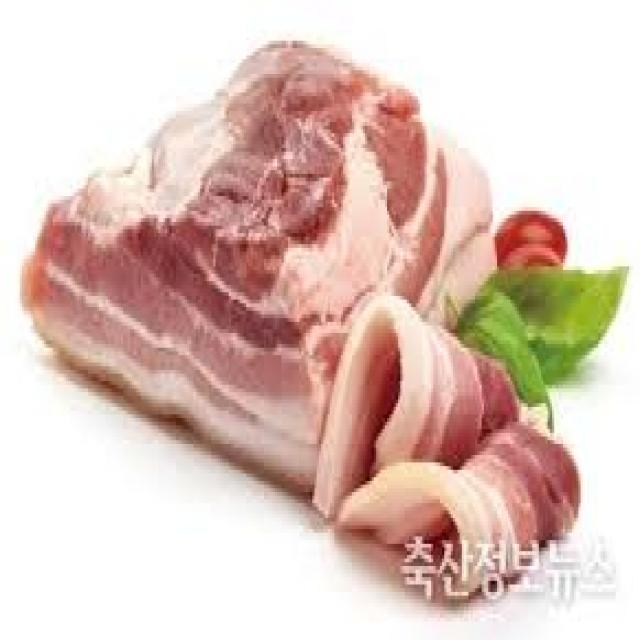pork belly: (16, 204, 330, 494)
